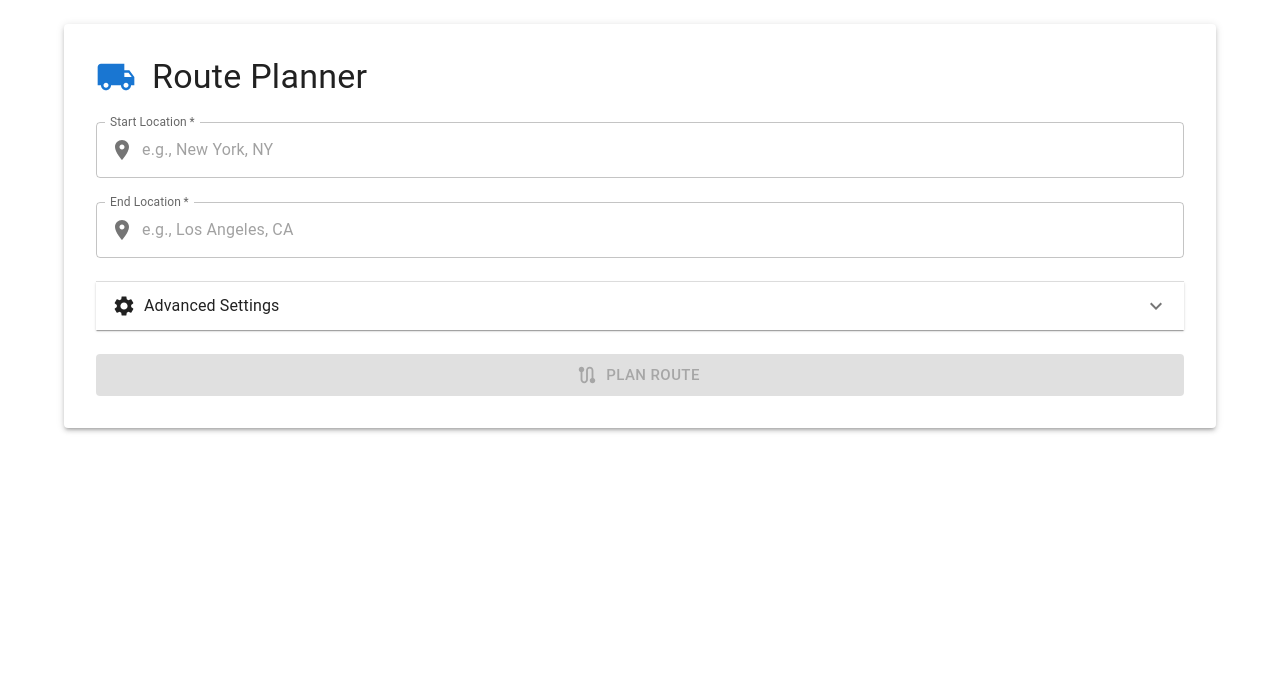
Test: RoutePlannerForm › should expand and show advanced settings
Click the button "Advanced Settings" at (212, 305), box x1=96 y1=282 x2=1184 y2=330
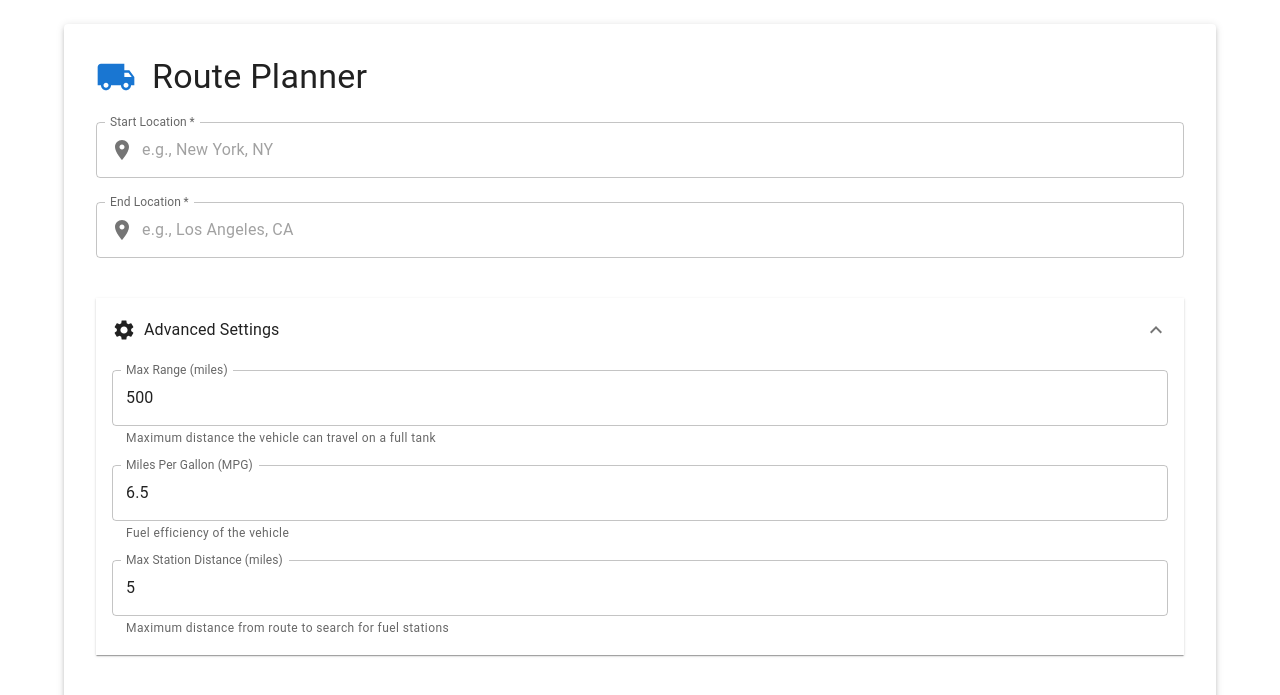
Result: the number field labelled "Max Range (miles)" is shown at x1=112 y1=370 x2=1168 y2=426
Result: the number field labelled "Miles Per Gallon (MPG)" is shown at x1=112 y1=465 x2=1168 y2=521
Result: the number field labelled "Max Station Distance (miles)" is shown at x1=112 y1=560 x2=1168 y2=616
